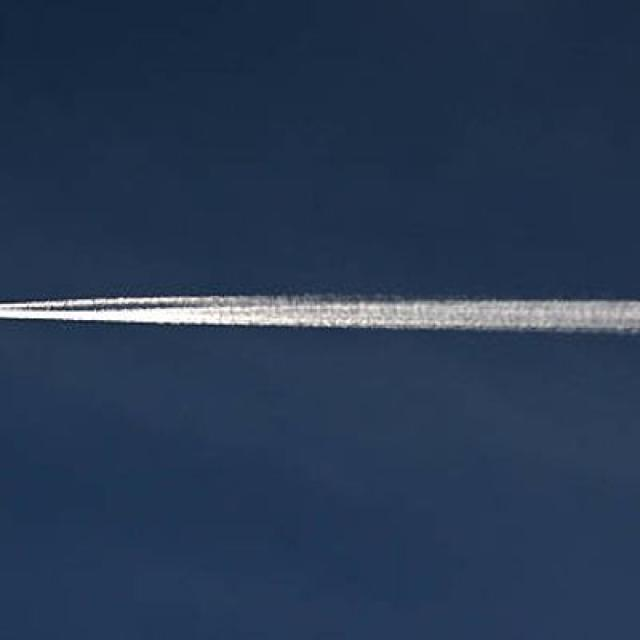Ct: (1, 140, 640, 484)
